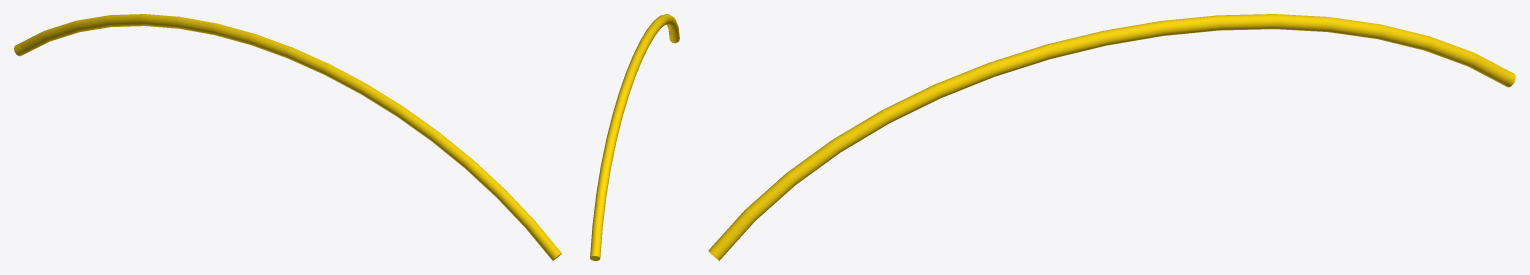
Rendered from Event_421364160_track_18.fbx.
3 views of the same model, side by side, from view 1: azimuth 30°, elevation 25°; view 2: azimuth 150°, elevation 25°; view 3: azimuth 270°, elevation 25° (orthographic). The views are drawn at different scales.
Parts seen in each view (by area): view 1: Model; view 2: Model; view 3: Model.
Boxes of the visible parts, bbox=[...] form: Model: bbox=[14, 14, 561, 260]; Model: bbox=[590, 14, 679, 260]; Model: bbox=[708, 14, 1515, 260].
Bounding box in the file's own units: 0.8941 × 0.4693 × 2.13.
